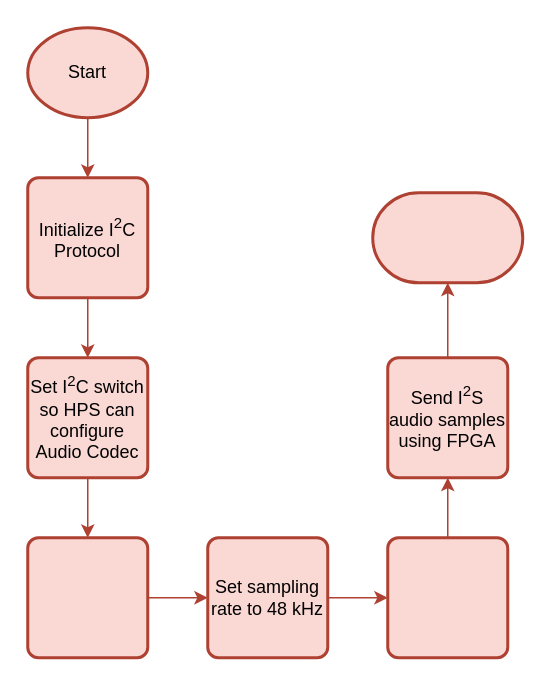
Image size: 549x684. Some labels were removed from this diagram. Here are the shapes that lost their labels. From the top down, the centre of each, then its label:
At (x=447, y=237): "End".
At (x=87, y=597): "Reset Audio Codec".
At (x=447, y=597): "Set audio gain for digital to audio conversion".
